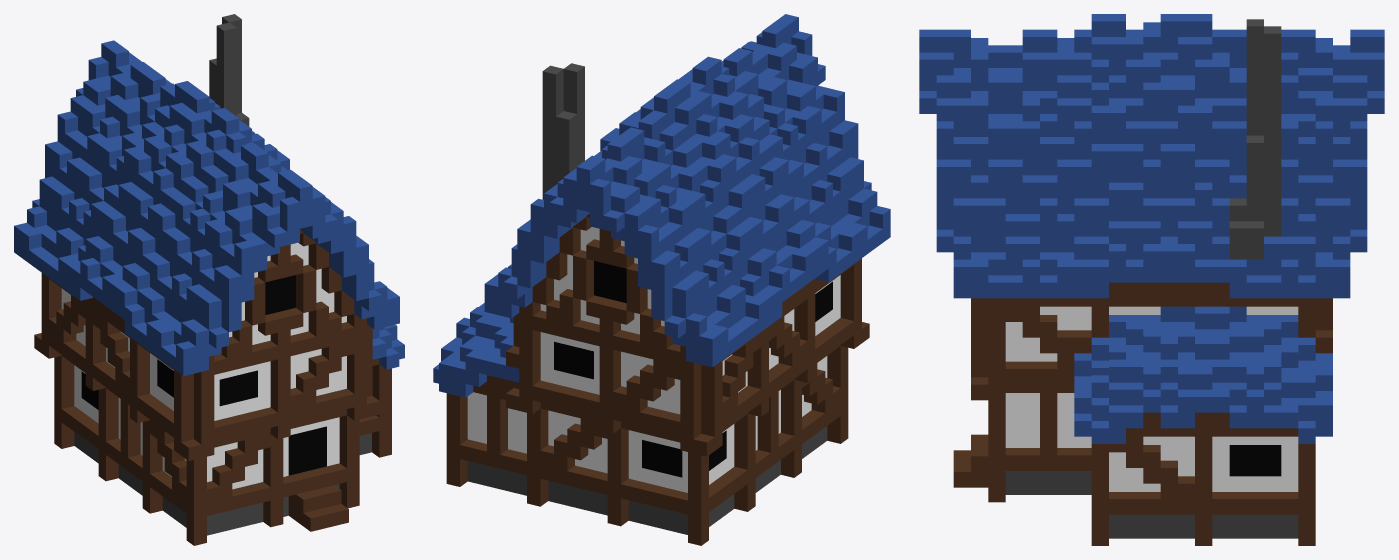
Rendered from house01.fbx.
3 views of the same model, side by side, from view 1: azimuth 30°, elevation 25°; view 2: azimuth 150°, elevation 25°; view 3: azimuth 270°, elevation 25° (orthographic). The views are drawn at different scales.
Visible parts, largest first — view 1: house1-1; view 2: house1-1; view 3: house1-1.
Boxes of the visible parts, x1,y1,x2,y2 form: house1-1: (14, 14, 404, 545); house1-1: (433, 14, 890, 545); house1-1: (919, 14, 1384, 545).
Size of the model in its own units: 2200 by 3000 by 2700.
